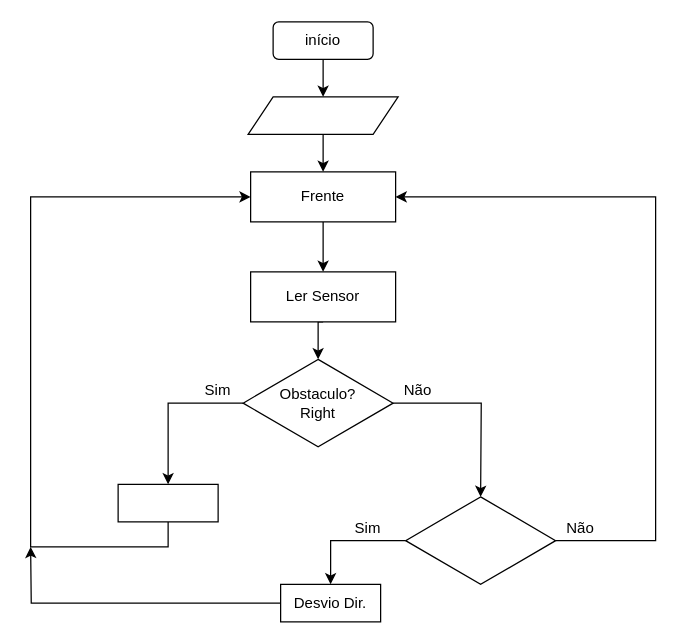
The diagram is 688 pixels wide and 644 high, and some of its shapes have lost their labels. The centre of each missing label's shape, as x and y in pixels:
Config. IOs: the point at 322,115
Desvio Esq.: the point at 167,502
Obstaculo? Left: the point at 480,540
